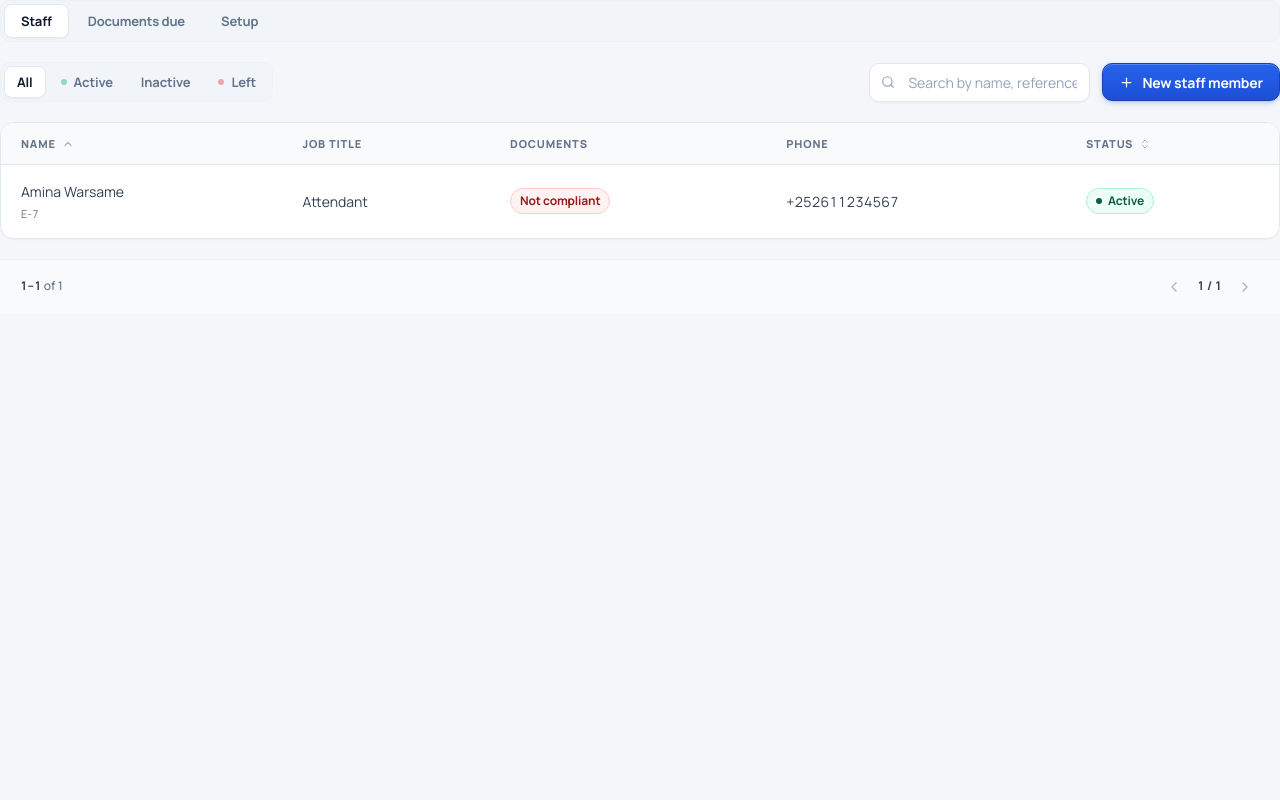
it: TransportStaffPage › lists staff with their title and opens the profile with its sections
The width and height of the screenshot is (1280, 800).
Expected: the text "Attendant" is shown, [302, 192, 368, 211]
Click the text "Amina Warsame" at (72, 192), box [21, 182, 124, 201]
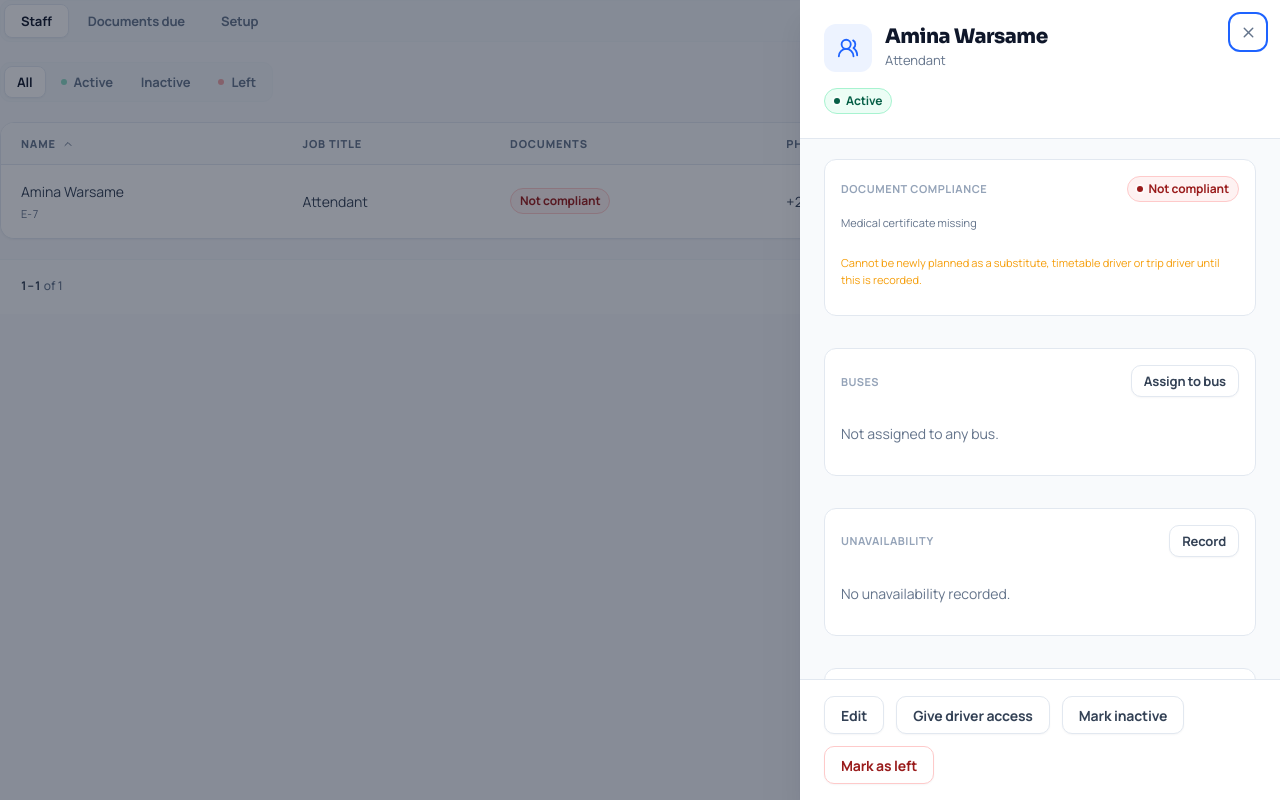
Now the element "Buses" is shown, box [824, 348, 1256, 476]
Now the button "Give driver access" is shown, box [896, 696, 1050, 734]
